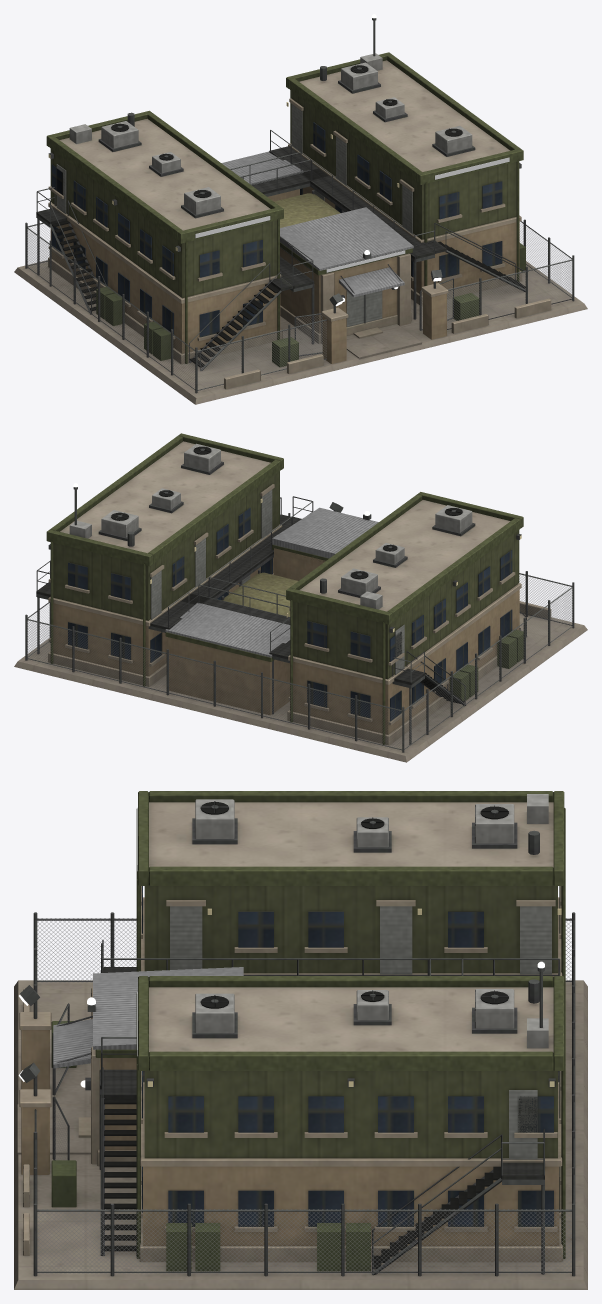
Rendered from barracks.glb.
3 renders of one model, top to bottom at view 1: azimuth 30°, elevation 25°; view 2: azimuth 150°, elevation 25°; view 3: azimuth 270°, elevation 25°, orthographic. The views are drawn at different scales.
Visible parts, largest first — view 1: Building, Props; view 2: Building, Props; view 3: Building, Props.
Boxes of the visible parts, x1,y1,x2,y2 form: Building: [14, 18, 587, 404]; Props: [25, 190, 574, 393]; Building: [14, 433, 587, 762]; Props: [25, 502, 574, 752]; Building: [14, 791, 587, 1289]; Props: [19, 912, 575, 1276].
Bounding box in the file's own units: 20 × 8.97 × 16.
Materials: 9 (2 with a texture image).
